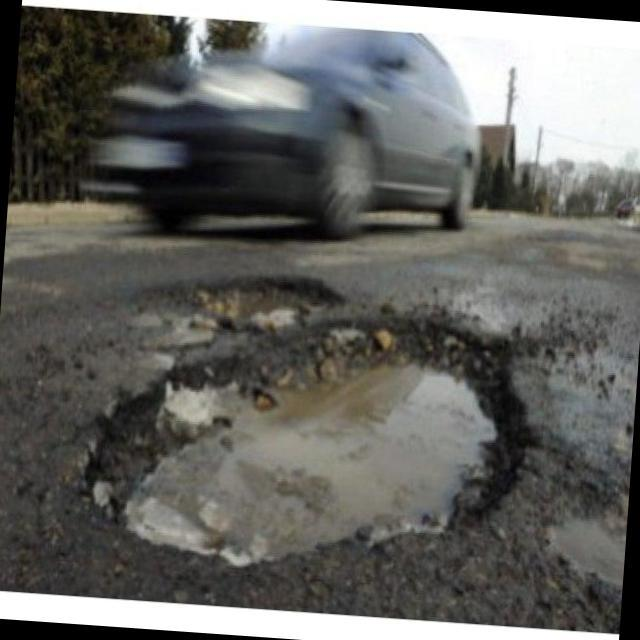Pothole: (122, 363, 497, 565), (196, 278, 300, 330), (380, 331, 393, 345)
